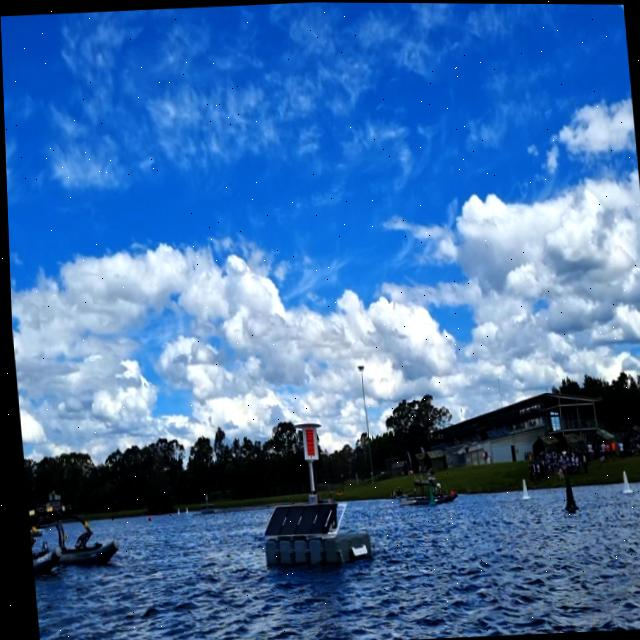led: (300, 427, 315, 459)
